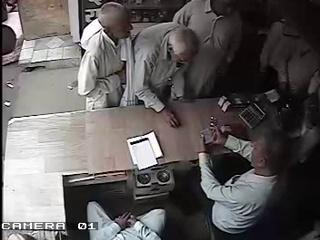Normal: (198, 119, 294, 240), (128, 22, 200, 128), (172, 0, 244, 100), (258, 0, 320, 94), (86, 201, 166, 240)
shoplifting: (76, 2, 134, 110)
